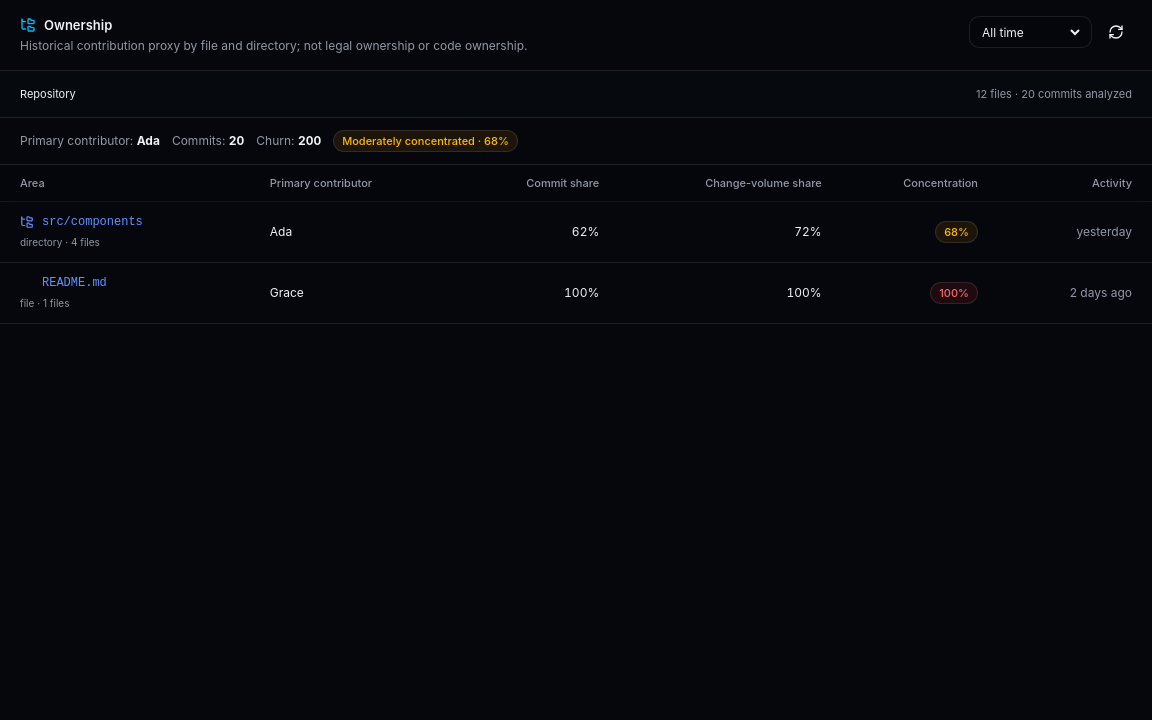
Test: OwnershipView › shows directory ownership, raw shares, and contributor detail
expect the heading "Ownership" is shown: met, box [44,16,112,34]
expect the table is shown: met, box [0,165,1151,324]
What coordinates should you click on to do the following:
click the button "README.md"
I would click on:
 (63, 283)
Its box is [20,275,107,291].
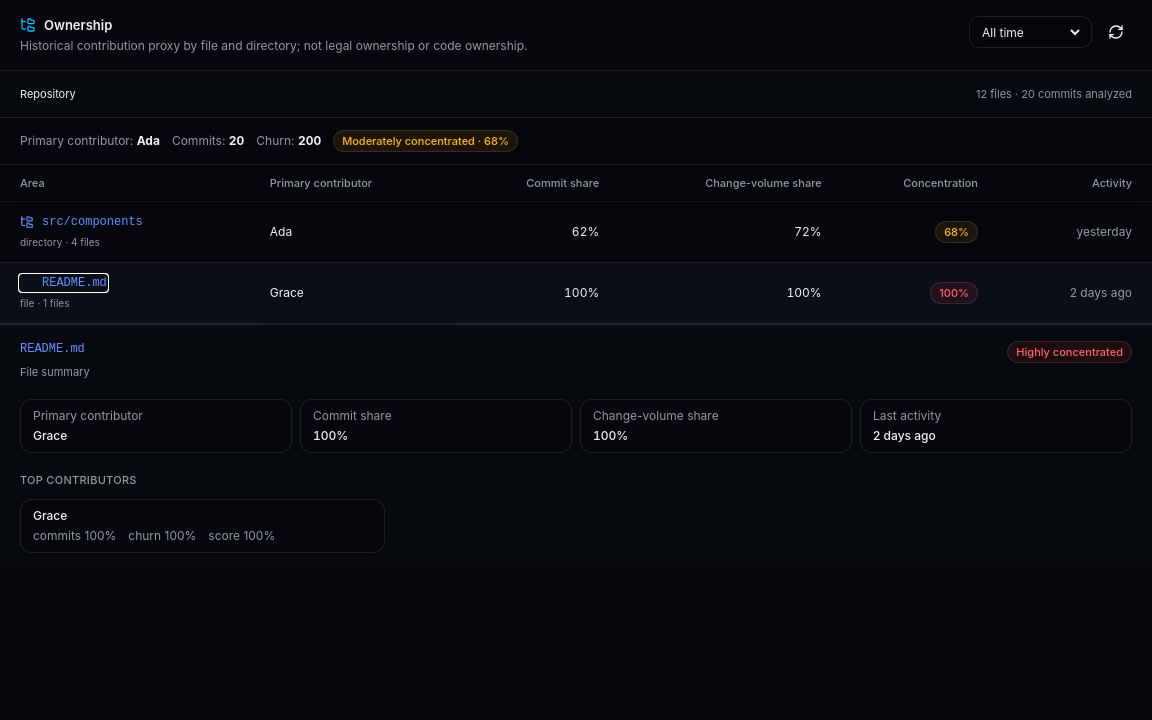
expect the text "Grace" below "Area" is shown: met, box [270,285,304,300]
expect the heading "Top contributors" is shown: met, box [20,473,137,487]
